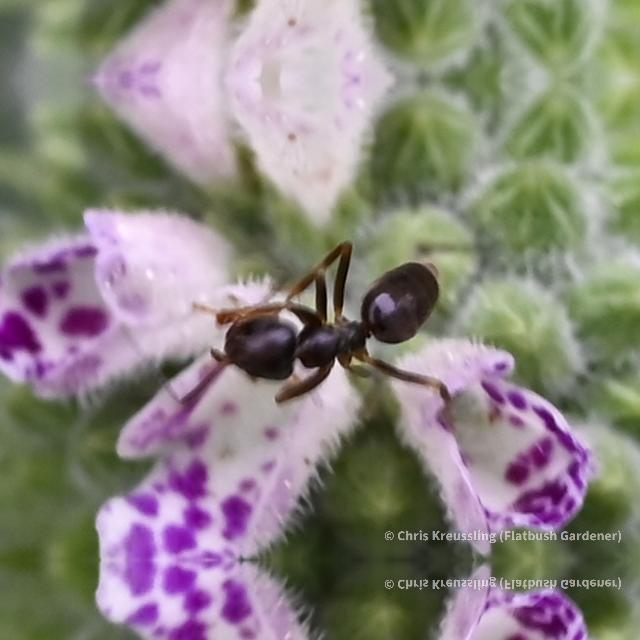Tapinoma: (177, 244, 475, 426)
